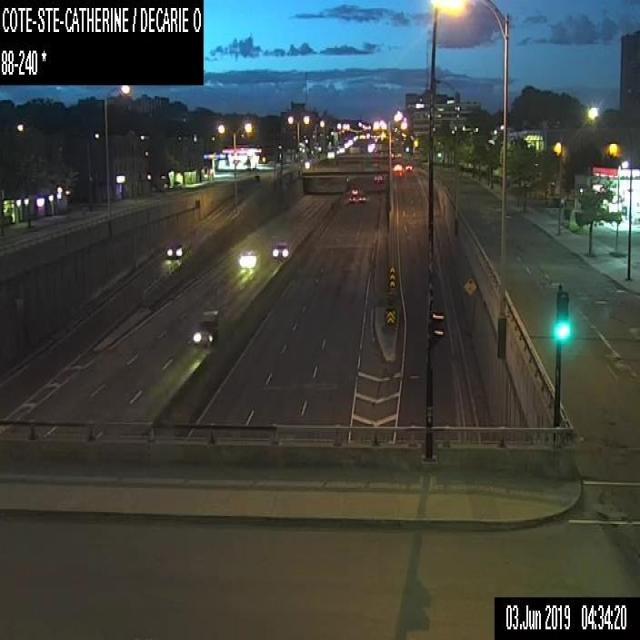vehicle: (192, 310, 218, 345), (238, 248, 256, 268), (165, 241, 186, 258), (271, 241, 289, 259), (350, 187, 358, 194), (404, 163, 412, 170), (358, 195, 366, 201), (348, 196, 355, 202)
